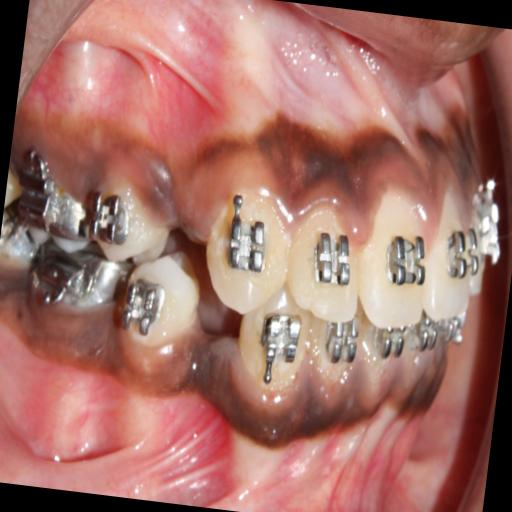correct_brace: (283, 206, 366, 320), (221, 194, 280, 274), (381, 225, 430, 294), (306, 226, 357, 292)
